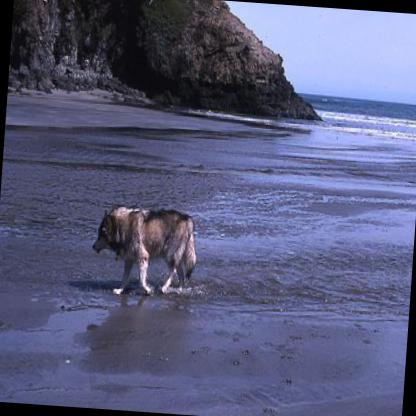malamute: (85, 196, 201, 303)
